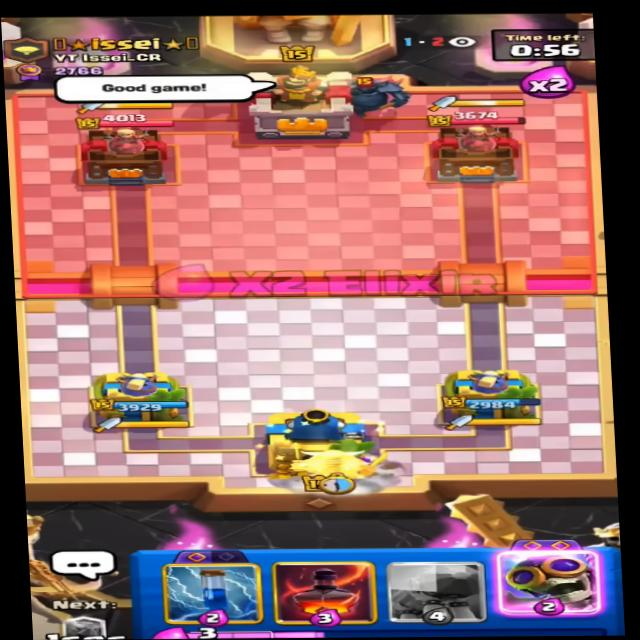Pekka: (334, 68, 417, 114)
